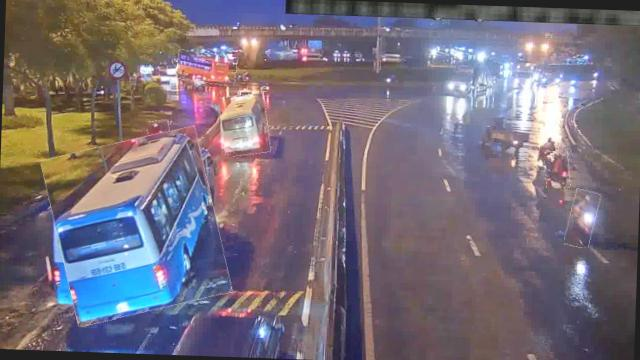Bike: (567, 189, 599, 248), (544, 150, 570, 188), (538, 132, 560, 168), (148, 120, 172, 151)
Bus: (45, 130, 228, 323), (220, 92, 270, 156), (176, 51, 237, 85)
